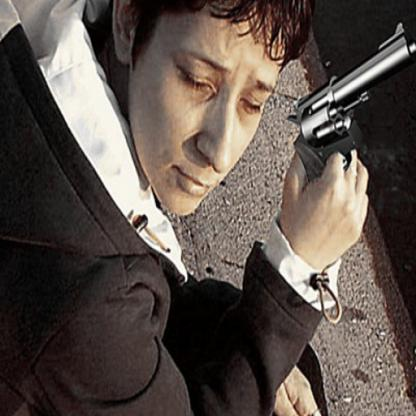gun: (286, 17, 415, 186)
